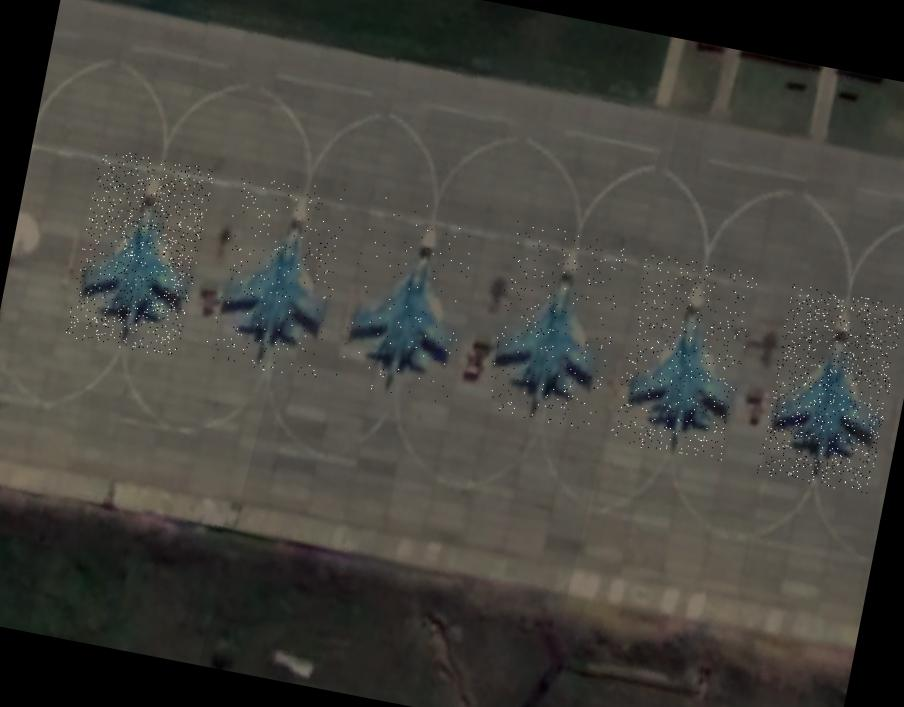A19: (65, 146, 215, 358), (334, 193, 484, 404), (481, 220, 631, 430), (609, 252, 759, 462), (203, 168, 352, 379), (756, 283, 904, 494)
